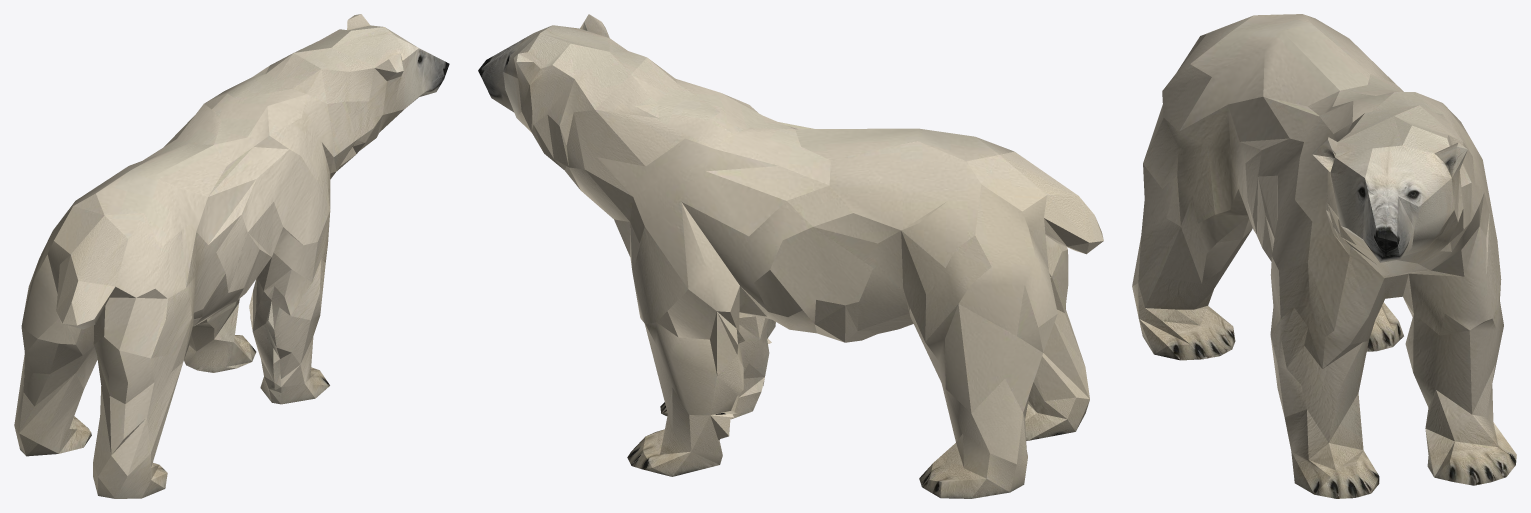
File: osito.fbx
3 views of the same model, side by side, from view 1: azimuth 30°, elevation 25°; view 2: azimuth 150°, elevation 25°; view 3: azimuth 270°, elevation 25° (orthographic). The views are drawn at different scales.
Parts seen in each view (by area): view 1: osito.001; view 2: osito.001; view 3: osito.001.
Boxes of the visible parts, x1,y1,x2,y2 form: osito.001: (14,14,449,498); osito.001: (478,14,1103,498); osito.001: (1132,14,1516,498).
Size of the model in its own units: 2.4 by 1.58 by 1.34.
Materials: 1 (1 with a texture image).
